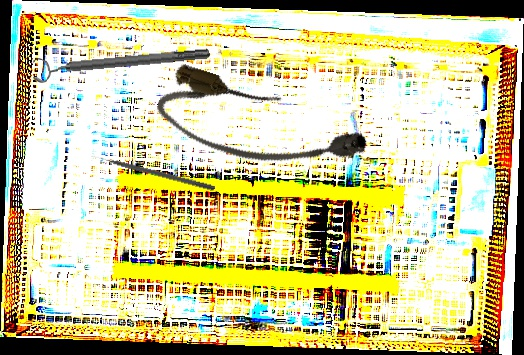Cannula: (150, 60, 373, 194)
Fixation Ring: (31, 41, 211, 84)
Pusher: (90, 151, 216, 192)
